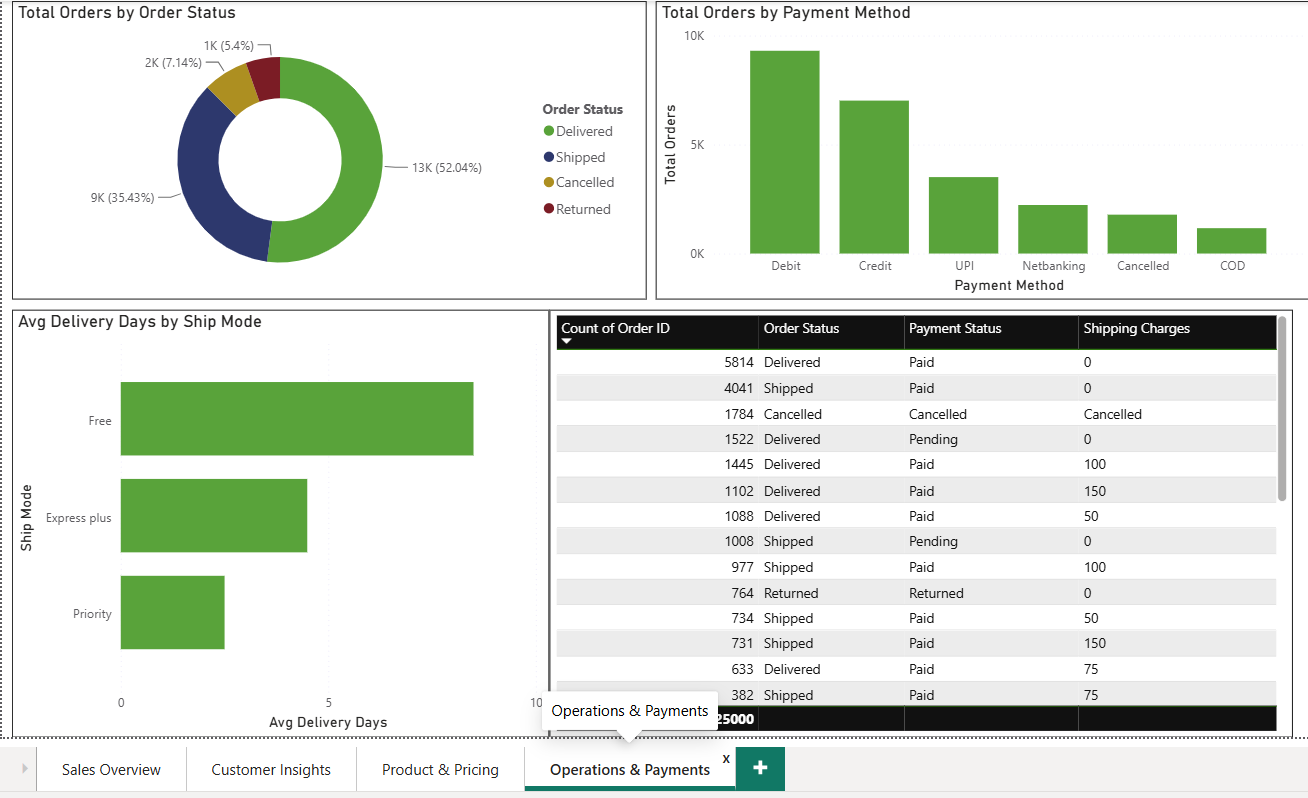

What the dashboard file says about the page in this screenshot:
{"tool":"powerbi","page":{"name":"Operations & Payments","canvas":[1280,720],"ordinal":3},"visuals":[{"type":"donutChart","fields":{"Category":["Dmart+Dataset_Tableau.Order Status"],"Y":["Dmart+Dataset_Tableau.Total Orders"]},"box":[9.8,0,621.2,292.3],"z":0},{"type":"barChart","fields":{"Category":["Dmart+Dataset_Tableau.Ship Mode"],"Y":["Dmart+Dataset_Tableau.Avg Delivery Days"]},"box":[9.8,302,525.8,418.2],"z":1000},{"type":"columnChart","fields":{"Category":["Dmart+Dataset_Tableau.Payment Method"],"Y":["Dmart+Dataset_Tableau.Total Orders"]},"box":[639.5,0,640.8,292.3],"z":2000},{"type":"tableEx","fields":{"Values":["CountNonNull(Dmart+Dataset_Tableau.Order ID)","Dmart+Dataset_Tableau.Order Status","Dmart+Dataset_Tableau.Payment Status","Dmart+Dataset_Tableau.Shipping Charges"]},"box":[535.6,302,727.6,418.2],"z":3000}]}

Visuals, with their boxes in screenshot pixels (x1, y1, x2, y2):
donutChart - Dmart+Dataset_Tableau.Order Status x Dmart+Dataset_Tableau.Total Orders: [17, 7, 643, 301]
barChart - Dmart+Dataset_Tableau.Ship Mode x Dmart+Dataset_Tableau.Avg Delivery Days: [17, 311, 547, 733]
columnChart - Dmart+Dataset_Tableau.Payment Method x Dmart+Dataset_Tableau.Total Orders: [651, 7, 1297, 301]
tableEx - CountNonNull(Dmart+Dataset_Tableau.Order ID) x Dmart+Dataset_Tableau.Order Status: [547, 311, 1280, 733]
